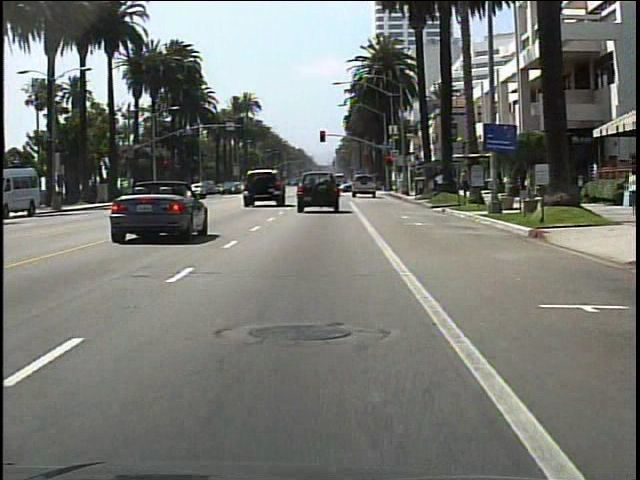person: (625, 167, 638, 216), (431, 170, 447, 196)
